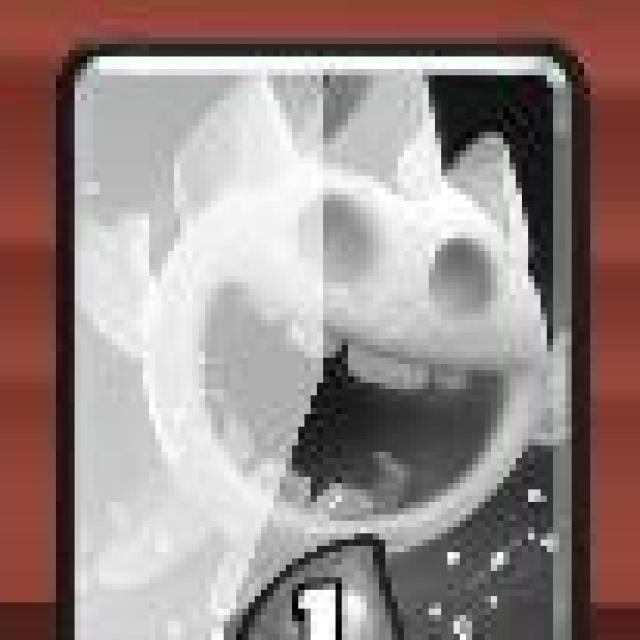Ice_Spirit: (62, 48, 571, 640)
